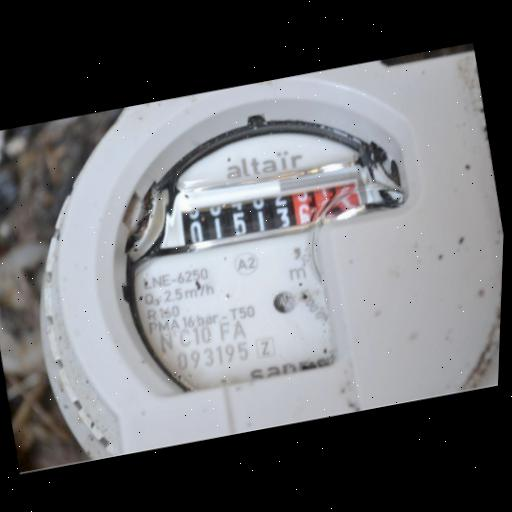0: (180, 207, 211, 247)
1: (246, 194, 276, 235), (202, 202, 231, 242)
3: (267, 190, 299, 231)
5: (223, 198, 253, 238)
6: (290, 187, 317, 226)
border_water_meter_number: (176, 170, 370, 251)
